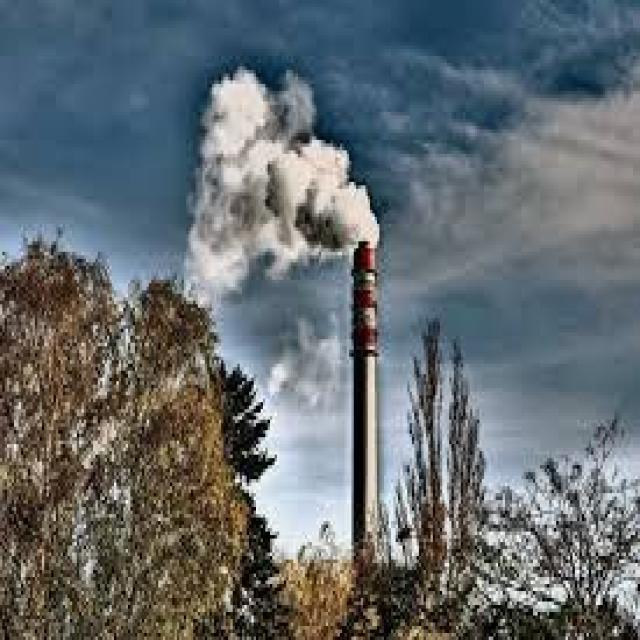Smoke: (180, 66, 380, 319)
